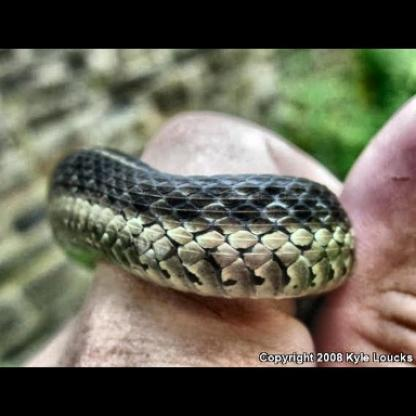Snake: (46, 89, 394, 302)
